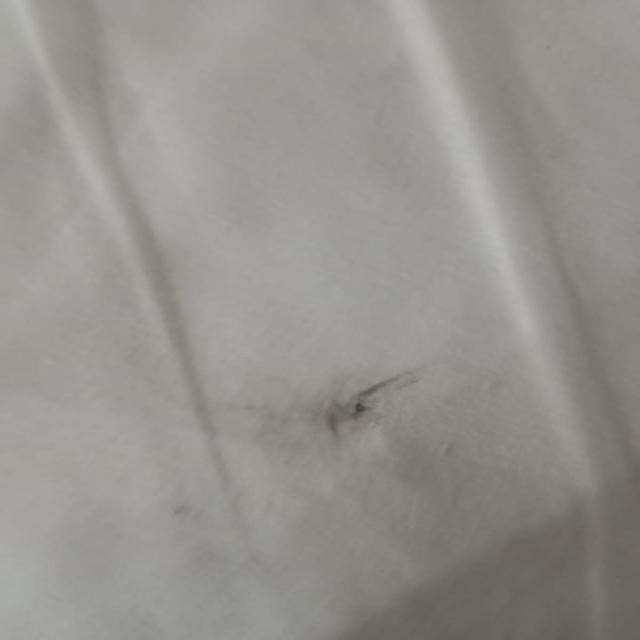stain: (234, 354, 446, 464), (151, 490, 213, 539)
